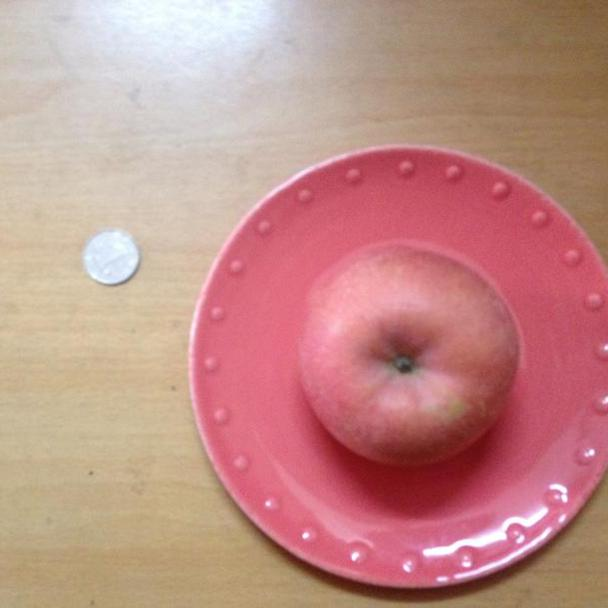apple: (301, 248, 519, 473)
